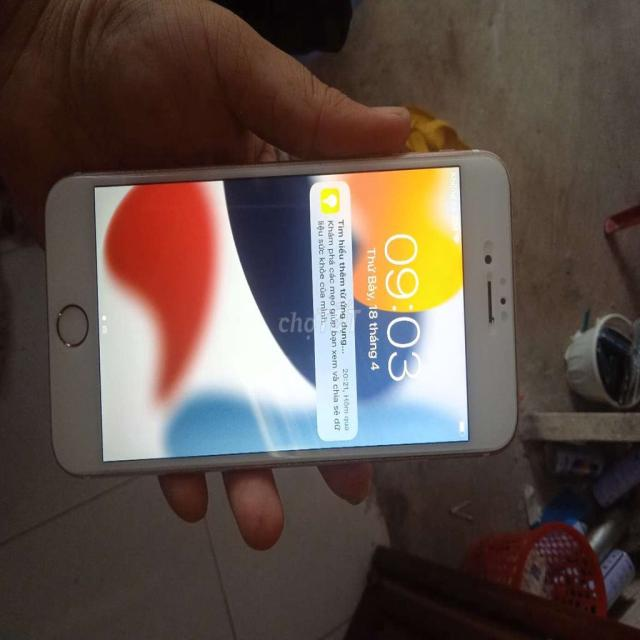gen_6: (46, 153, 517, 475)
